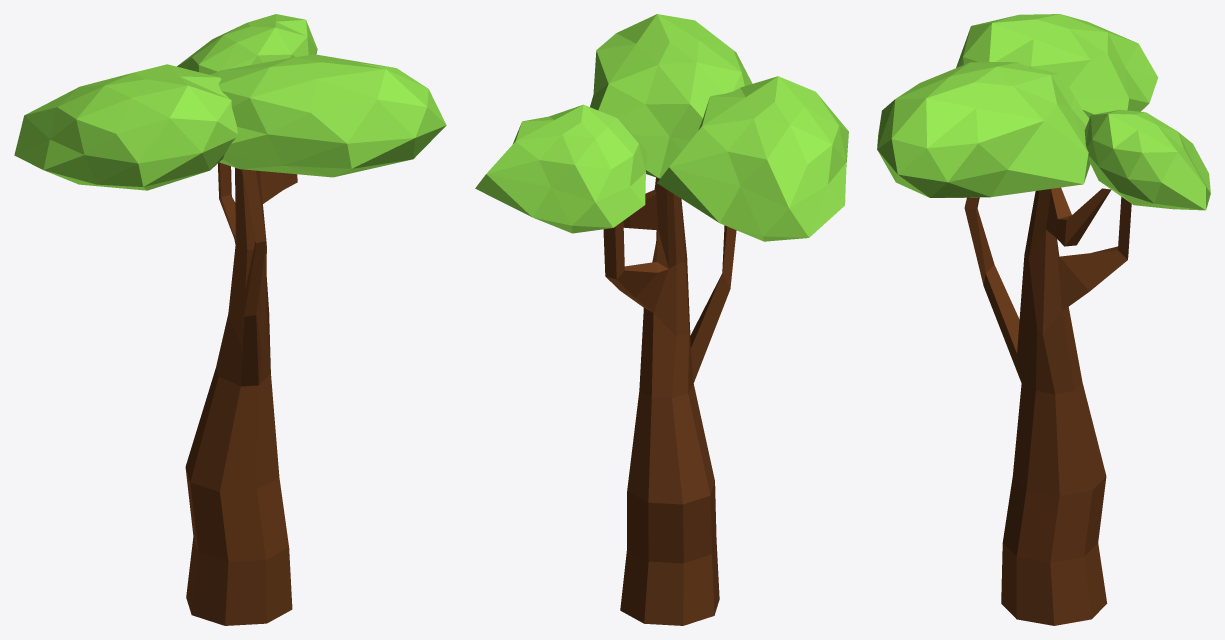
File: Drzewa2.fbx
3 renders of one model, left to right at view 1: azimuth 30°, elevation 25°; view 2: azimuth 150°, elevation 25°; view 3: azimuth 270°, elevation 25°, orthographic. The views are drawn at different scales.
Visible parts, largest first — view 1: Icosphere.003; view 2: Icosphere.003; view 3: Icosphere.003.
Boxes of the visible parts, x1=… form: Icosphere.003: x1=14, y1=14, x2=446, y2=625; Icosphere.003: x1=475, y1=14, x2=848, y2=625; Icosphere.003: x1=877, y1=14, x2=1210, y2=625.
Bounding box in the file's own units: 733 × 1211 × 675.
